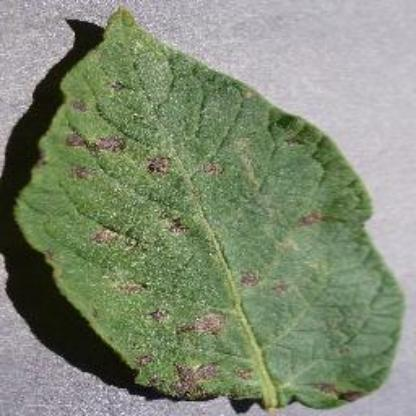Early-Blight: (15, 8, 404, 412)
